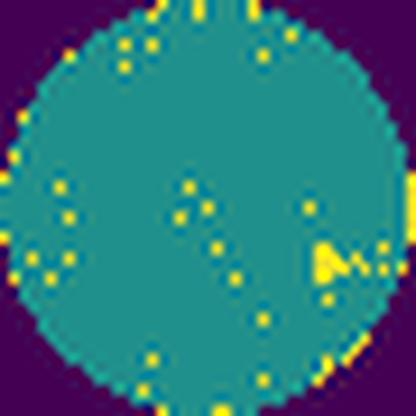Loc: (311, 241, 368, 281)
